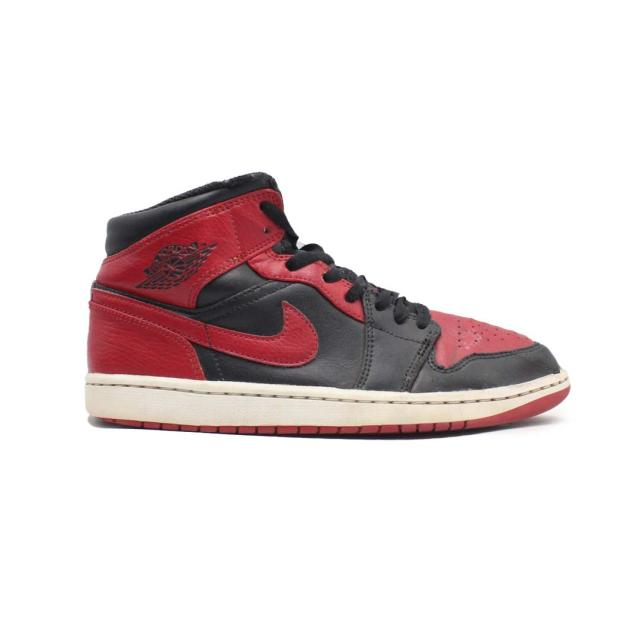heel: (87, 200, 177, 375)
midsole: (83, 373, 568, 439)
uppersole: (177, 171, 565, 390)
